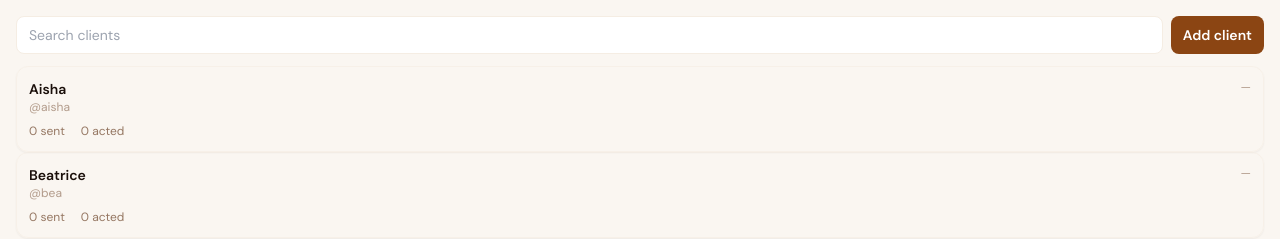
Test: ClientsTab › filters clients by nickname search
This screenshot has width=1280, height=239.
Expected: the text "Aisha" is shown, x1=29 y1=79 x2=70 y2=99
Type "bea" into the field with placeholder "Search clients".
click(589, 35); type("bea")  # box x1=16 y1=16 x2=1163 y2=54
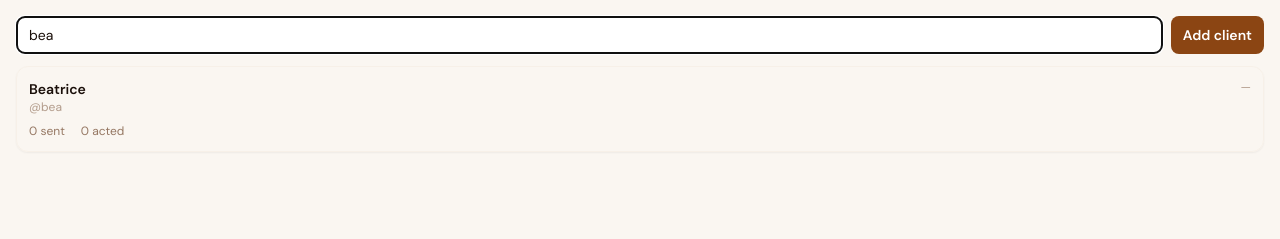
Expected: the text "Beatrice" is shown, x1=29 y1=79 x2=86 y2=99
Expected: the link "Aisha" is gone
